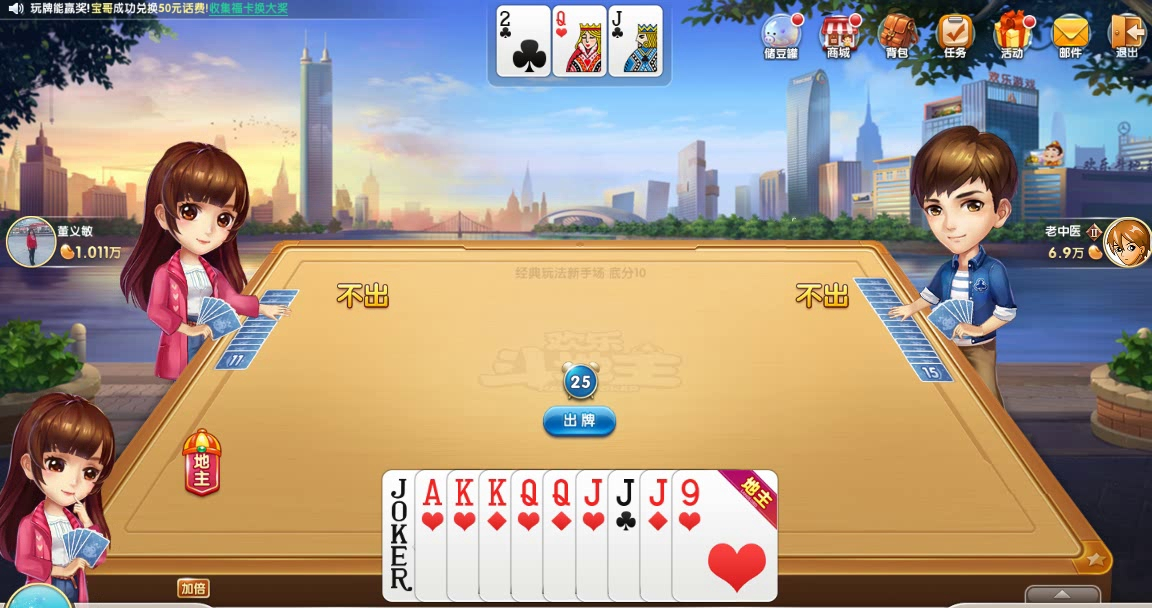11~1: (670, 470, 776, 601)
11~2: (605, 470, 711, 601), (607, 4, 662, 77)
11~3: (576, 470, 682, 601)
12~1: (543, 470, 649, 601)
12~3: (511, 470, 617, 601), (551, 4, 606, 77)
13~1: (479, 470, 585, 601)
13~3: (447, 470, 553, 601)
14~3: (415, 470, 521, 601)
15~2: (495, 4, 550, 77)
17~3: (380, 470, 486, 601)
9~3: (672, 470, 778, 601)
